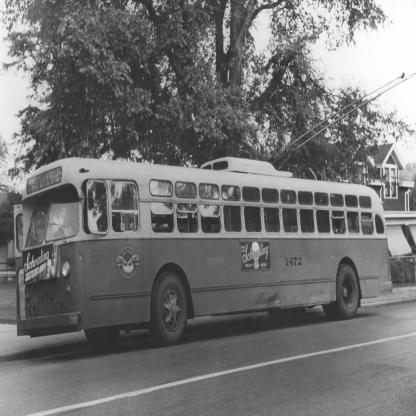Bus: (13, 157, 392, 346)
